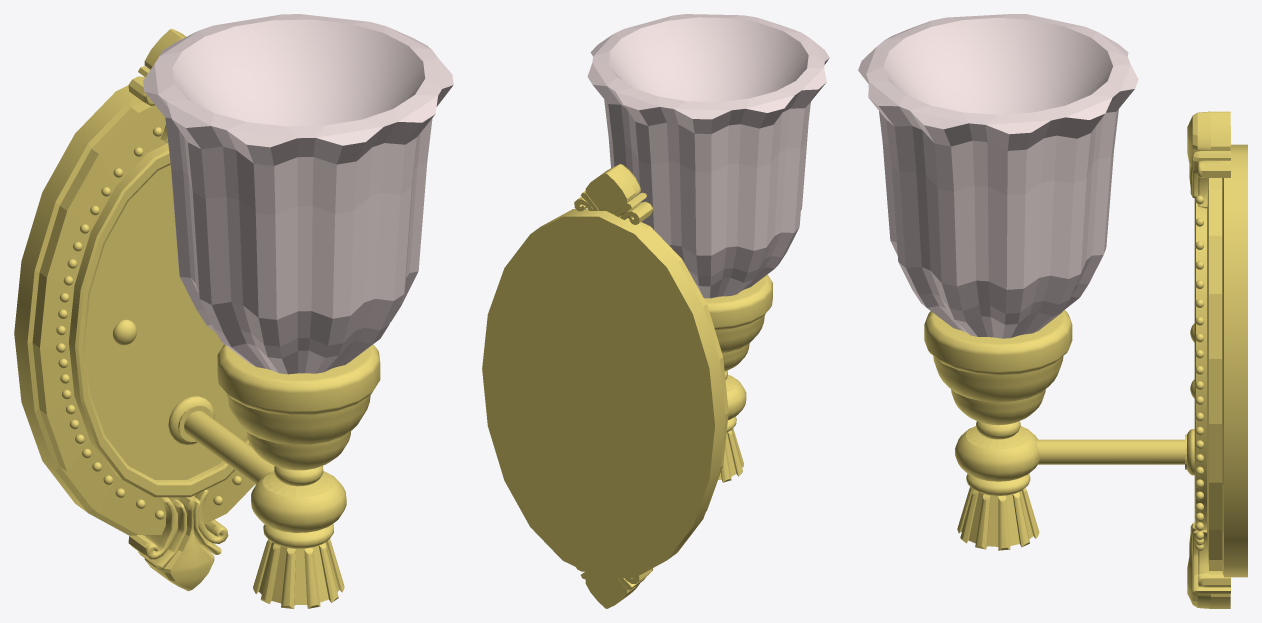
The model's file is WallLampTextured.fbx.
3 views of the same model, side by side, from view 1: azimuth 30°, elevation 25°; view 2: azimuth 150°, elevation 25°; view 3: azimuth 270°, elevation 25° (orthographic). The views are drawn at different scales.
Parts seen in each view (by area): view 1: Lampglass, pCylinder1, polySurface20, polySurface16, polySurface13, polySurface14, polySurface18, pCylinder6, polySurface17, pasted__pCylinder6, polySurface11, pSphere22 (+2 smaller); view 2: pCylinder1, Lampglass, polySurface11, polySurface20, polySurface13, polySurface18, polySurface16, polySurface14; view 3: Lampglass, pCylinder1, polySurface20, polySurface16, pCylinder6, polySurface14, polySurface11, polySurface18, polySurface13, polySurface17, pSphere28, pSphere26 (+1 smaller).
Part boxes in pixels (x1=…): Lampglass: x1=143, y1=14, x2=453, y2=374; pCylinder1: x1=14, y1=85, x2=254, y2=535; polySurface20: x1=217, y1=344, x2=380, y2=415; polySurface16: x1=253, y1=524, x2=344, y2=608; polySurface13: x1=128, y1=489, x2=228, y2=591; polySurface14: x1=251, y1=471, x2=346, y2=532; polySurface18: x1=227, y1=394, x2=370, y2=444; pCylinder6: x1=184, y1=411, x2=274, y2=484; polySurface17: x1=246, y1=431, x2=350, y2=470; pasted__pCylinder6: x1=168, y1=396, x2=214, y2=445; polySurface11: x1=128, y1=29, x2=186, y2=142; pSphere22: x1=58, y1=358, x2=164, y2=519; pCylinder1: x1=482, y1=209, x2=728, y2=578; Lampglass: x1=587, y1=14, x2=829, y2=298; polySurface11: x1=574, y1=164, x2=653, y2=224; polySurface20: x1=704, y1=274, x2=772, y2=330; polySurface13: x1=576, y1=567, x2=653, y2=608; polySurface18: x1=715, y1=314, x2=765, y2=352; polySurface16: x1=718, y1=417, x2=743, y2=482; polySurface14: x1=725, y1=375, x2=746, y2=420; Lampglass: x1=858, y1=14, x2=1138, y2=338; pCylinder1: x1=1194, y1=144, x2=1247, y2=577; polySurface20: x1=924, y1=310, x2=1072, y2=375; polySurface16: x1=957, y1=473, x2=1039, y2=550; pCylinder6: x1=1036, y1=439, x2=1184, y2=464; polySurface14: x1=955, y1=426, x2=1039, y2=481; polySurface11: x1=1187, y1=111, x2=1230, y2=208; polySurface18: x1=933, y1=356, x2=1063, y2=402; polySurface13: x1=1187, y1=522, x2=1230, y2=608; polySurface17: x1=951, y1=389, x2=1045, y2=425; pSphere28: x1=1195, y1=195, x2=1203, y2=404; pSphere26: x1=1195, y1=426, x2=1203, y2=550.
Bounding box in the file's own units: 0.735 × 1.43 × 0.9328.
1 material, 1 textured.
